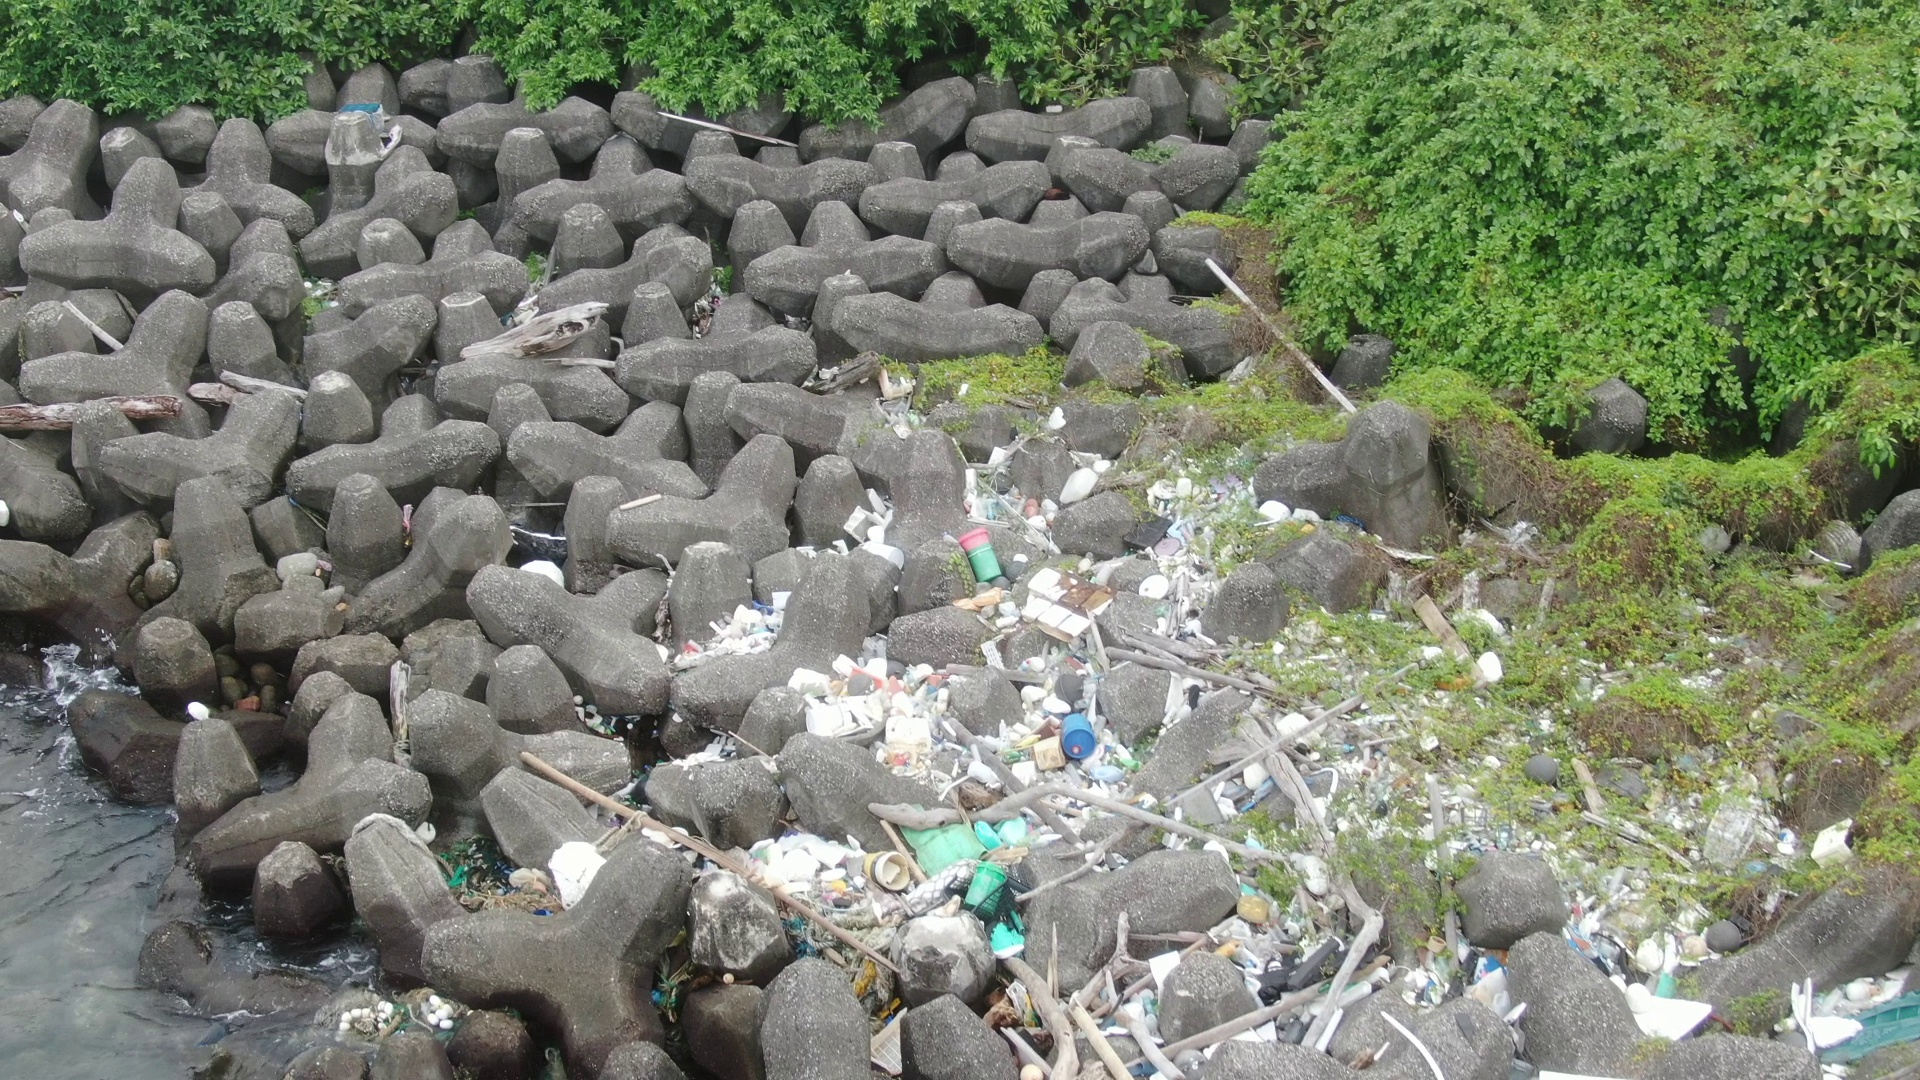garbage: (705, 790, 1391, 1080), (675, 549, 1423, 795), (839, 360, 1346, 543), (1596, 820, 1741, 1042), (1407, 909, 1539, 1044), (1784, 957, 1917, 1080), (1753, 790, 1880, 897), (316, 981, 471, 1035), (430, 818, 516, 899), (568, 679, 646, 746), (637, 945, 696, 1029), (332, 95, 393, 131)
